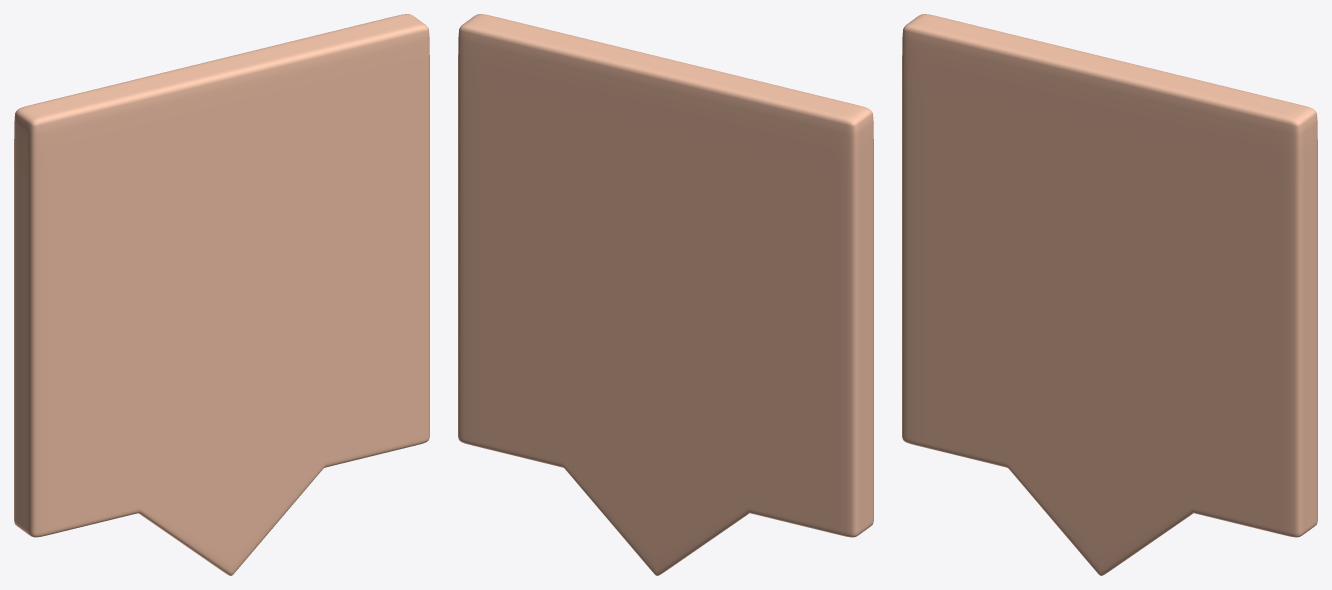
Rendered from tooltip.glb.
The picture shows the model from 3 angles, left to right: view 1: azimuth 30°, elevation 25°; view 2: azimuth 150°, elevation 25°; view 3: azimuth 330°, elevation 25°; orthographic projection.
Parts seen in each view (by area): view 1: Ocean_Tooltip; view 2: Ocean_Tooltip; view 3: Ocean_Tooltip.
Boxes of the visible parts, x1,y1,x2,y2 form: Ocean_Tooltip: (14,14,429,575); Ocean_Tooltip: (458,14,873,575); Ocean_Tooltip: (902,14,1317,575).
Size of the model in its own units: 1.09 by 1.31 by 0.0992.
